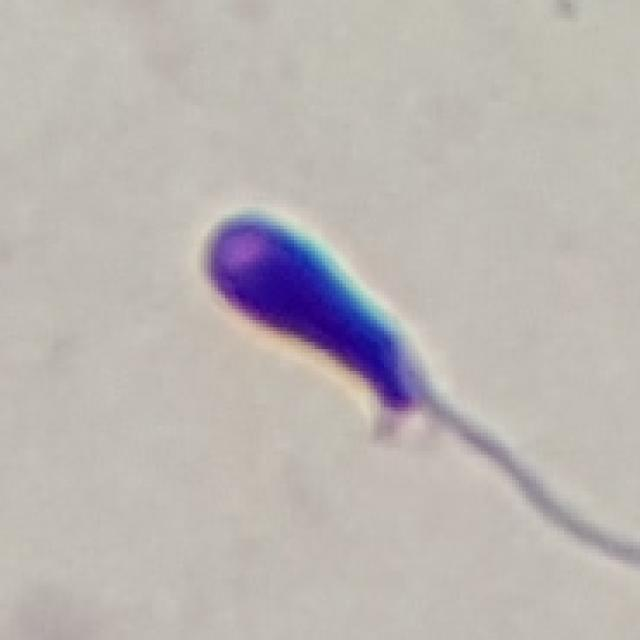abnormal sperm: (172, 186, 629, 571)
